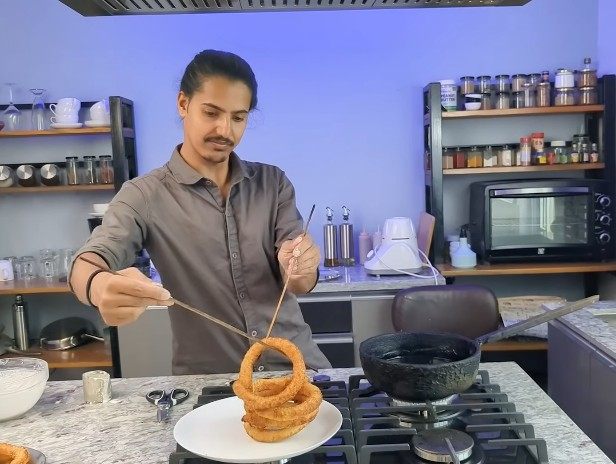sel_roti: (240, 338, 307, 406)
